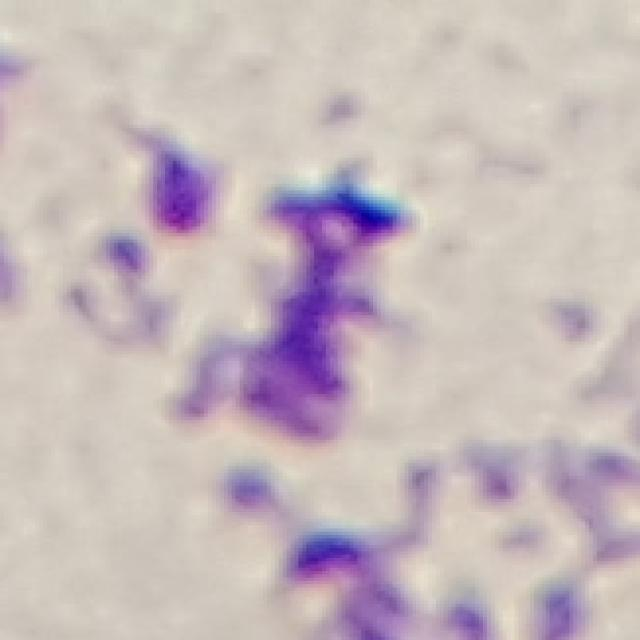non-sperm: (138, 143, 424, 439)
